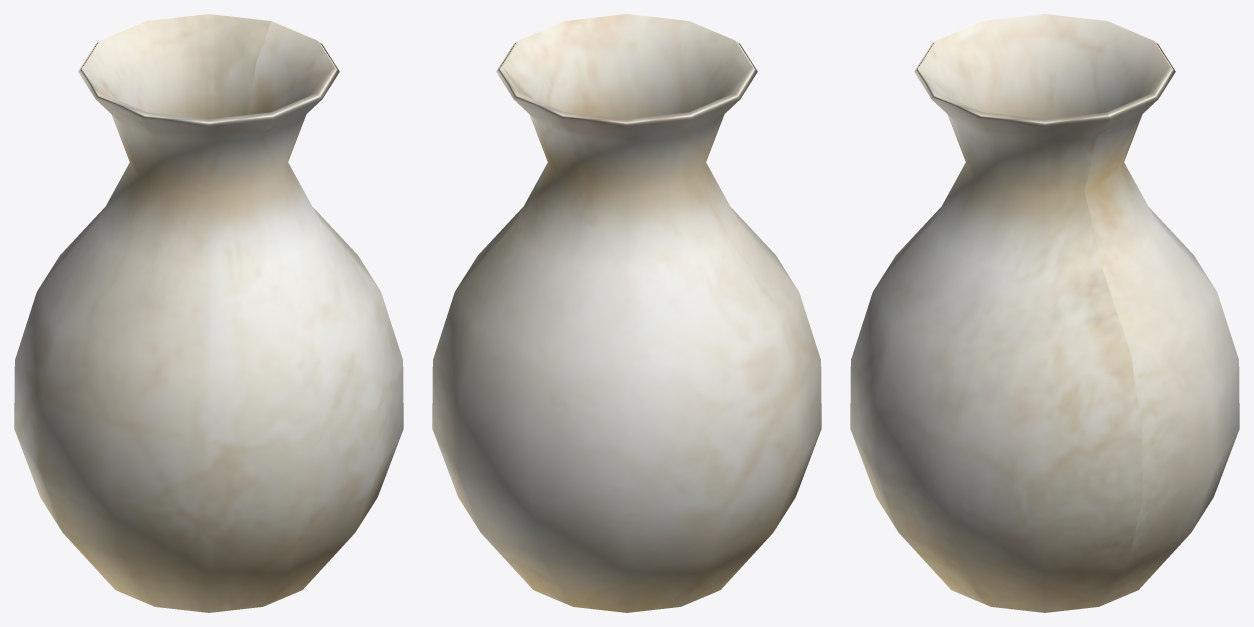
File: jug_002.fbx
The picture shows the model from 3 angles, left to right: view 1: azimuth 30°, elevation 25°; view 2: azimuth 150°, elevation 25°; view 3: azimuth 270°, elevation 25°; orthographic projection.
Visible parts, largest first — view 1: jug_002; view 2: jug_002; view 3: jug_002.
Part boxes in pixels (bbox=[...]): jug_002: bbox=[14, 14, 403, 612]; jug_002: bbox=[432, 14, 821, 612]; jug_002: bbox=[850, 14, 1239, 612].
Bounding box in the file's own units: 21.11 × 29.94 × 21.11.
